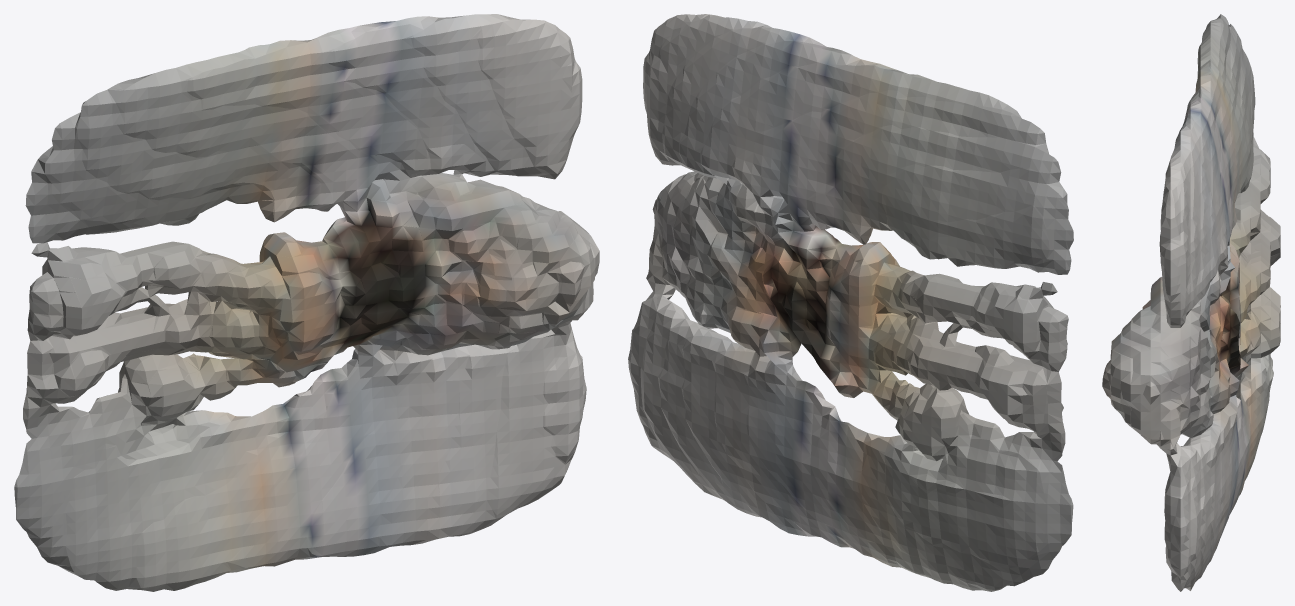
File: sence5.glb
The picture shows the model from 3 angles, left to right: view 1: azimuth 30°, elevation 25°; view 2: azimuth 150°, elevation 25°; view 3: azimuth 270°, elevation 25°; orthographic projection. The views are drawn at different scales.
Visible parts, largest first — view 1: world; view 2: world; view 3: world.
Part boxes in pixels (bbox=[...]): world: bbox=[14, 14, 599, 591]; world: bbox=[628, 14, 1073, 591]; world: bbox=[1102, 14, 1280, 591].
Size of the model in its own units: 0.9301 by 0.9042 by 0.3265.
